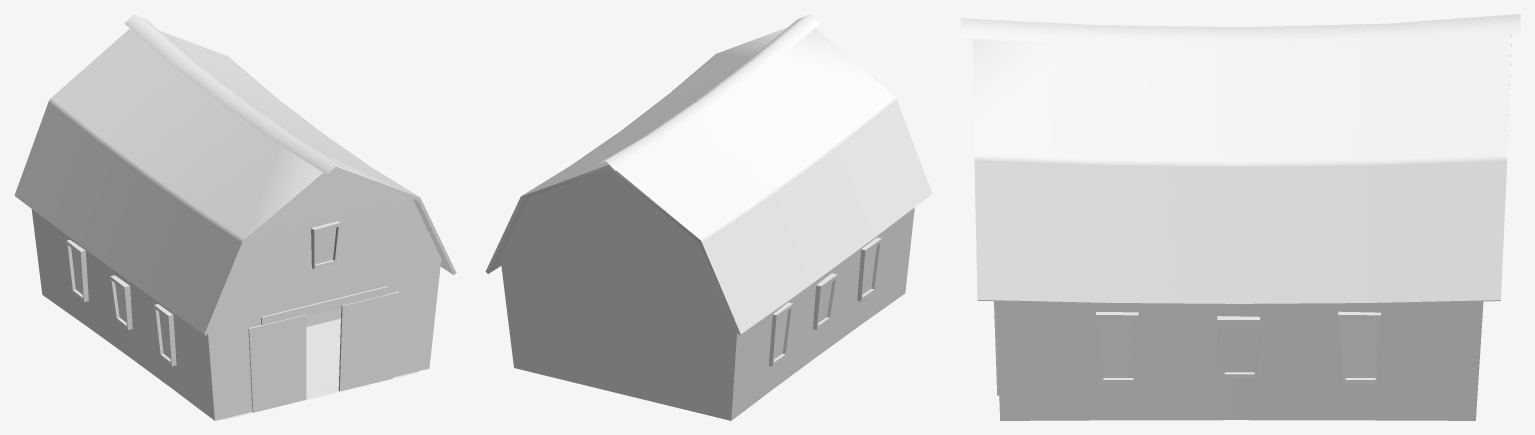
File: hangar_1.FBX
3 renders of one model, left to right at view 1: azimuth 30°, elevation 25°; view 2: azimuth 150°, elevation 25°; view 3: azimuth 270°, elevation 25°, orthographic. The views are drawn at different scales.
Visible parts, largest first — view 1: hangar_1; view 2: hangar_1; view 3: hangar_1.
Part boxes in pixels (<box>): hangar_1: <box>14,14,456,420</box>; hangar_1: <box>485,14,932,420</box>; hangar_1: <box>961,14,1520,420</box>.
Size of the model in its own units: 1195 by 1106 by 1660.
